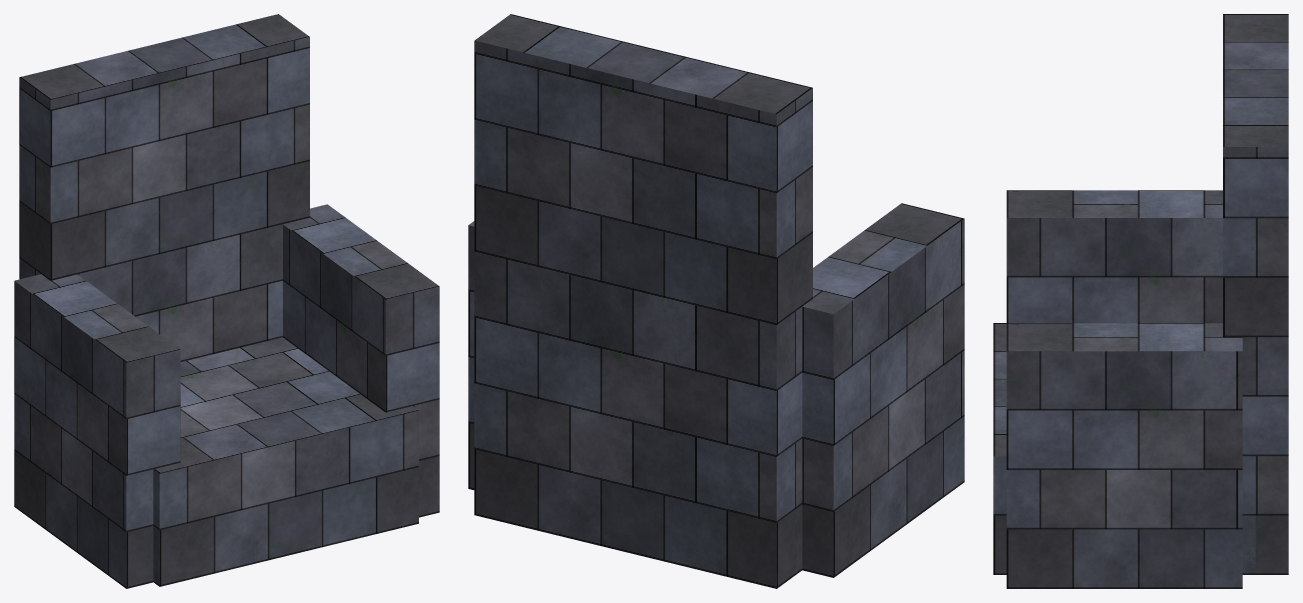
The model's file is SM_dg_throne.glb.
The picture shows the model from 3 angles, left to right: view 1: azimuth 30°, elevation 25°; view 2: azimuth 150°, elevation 25°; view 3: azimuth 270°, elevation 25°; orthographic projection. The views are drawn at different scales.
Parts seen in each view (by area): view 1: SM_dg_throne; view 2: SM_dg_throne; view 3: SM_dg_throne.
Part boxes in pixels (x1,y1,x2,y2): SM_dg_throne: (14,14,439,588); SM_dg_throne: (468,14,964,588); SM_dg_throne: (993,14,1288,588).
Size of the model in its own units: 2.9 by 3.6 by 2.25.
Materials: 1 (1 with a texture image).
